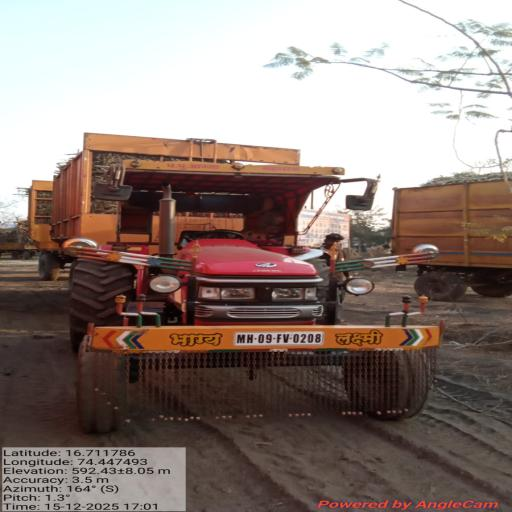number_plate: (234, 331, 324, 346)
